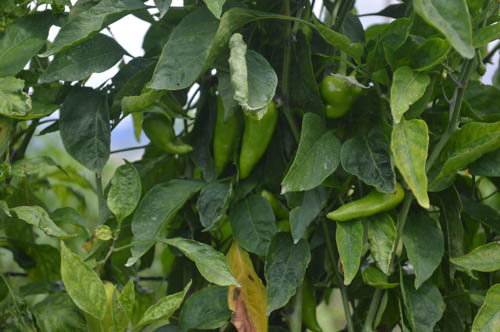ChiliPepper: (324, 186, 409, 222), (243, 98, 280, 179), (214, 96, 239, 176), (318, 72, 356, 122), (146, 118, 191, 156)
